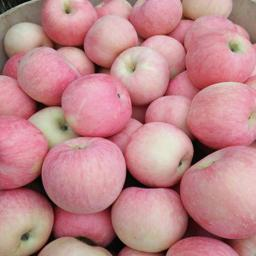Apple Fresh: (40, 125, 138, 225), (172, 134, 256, 231), (55, 59, 137, 142), (191, 18, 254, 97), (35, 0, 106, 45)
